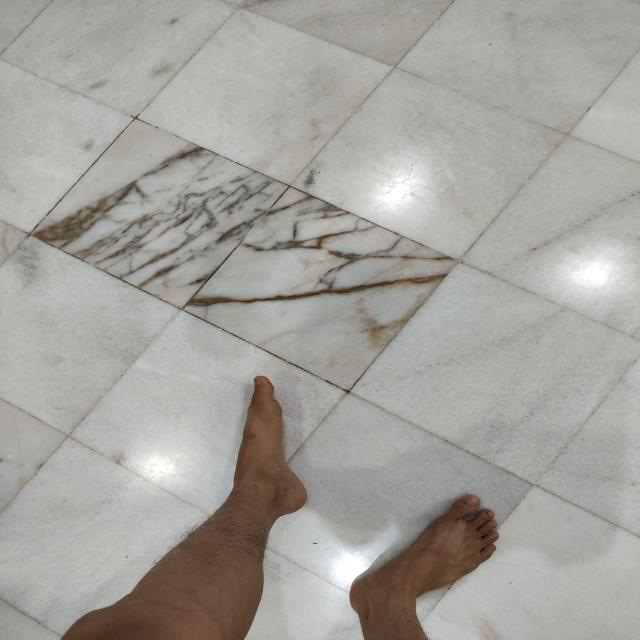No_Shoes: (330, 492, 530, 606), (214, 359, 322, 525)
